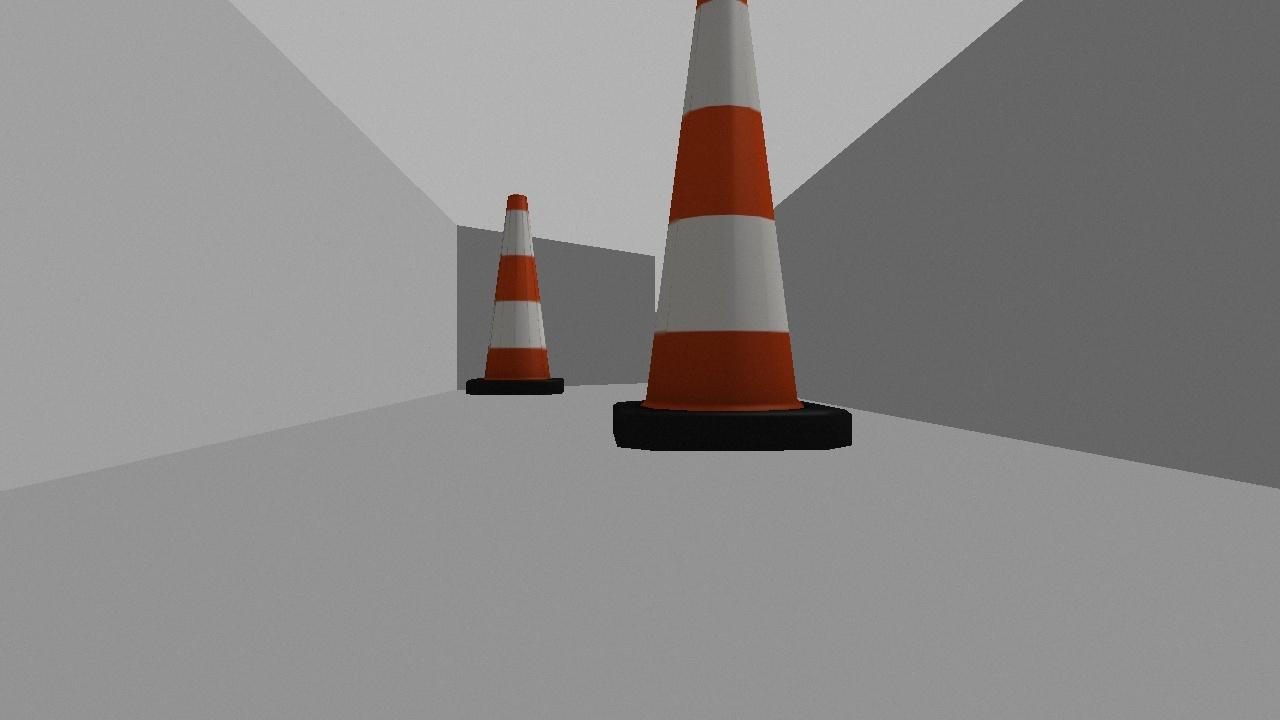cone_barrel: (595, 0, 864, 464), (464, 185, 567, 404)
